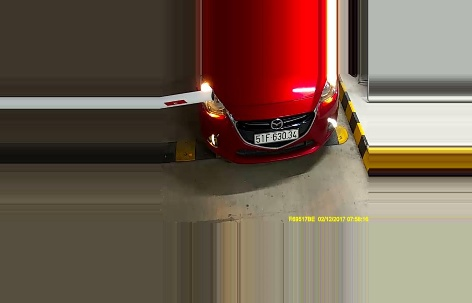plate: (251, 128, 301, 145)
